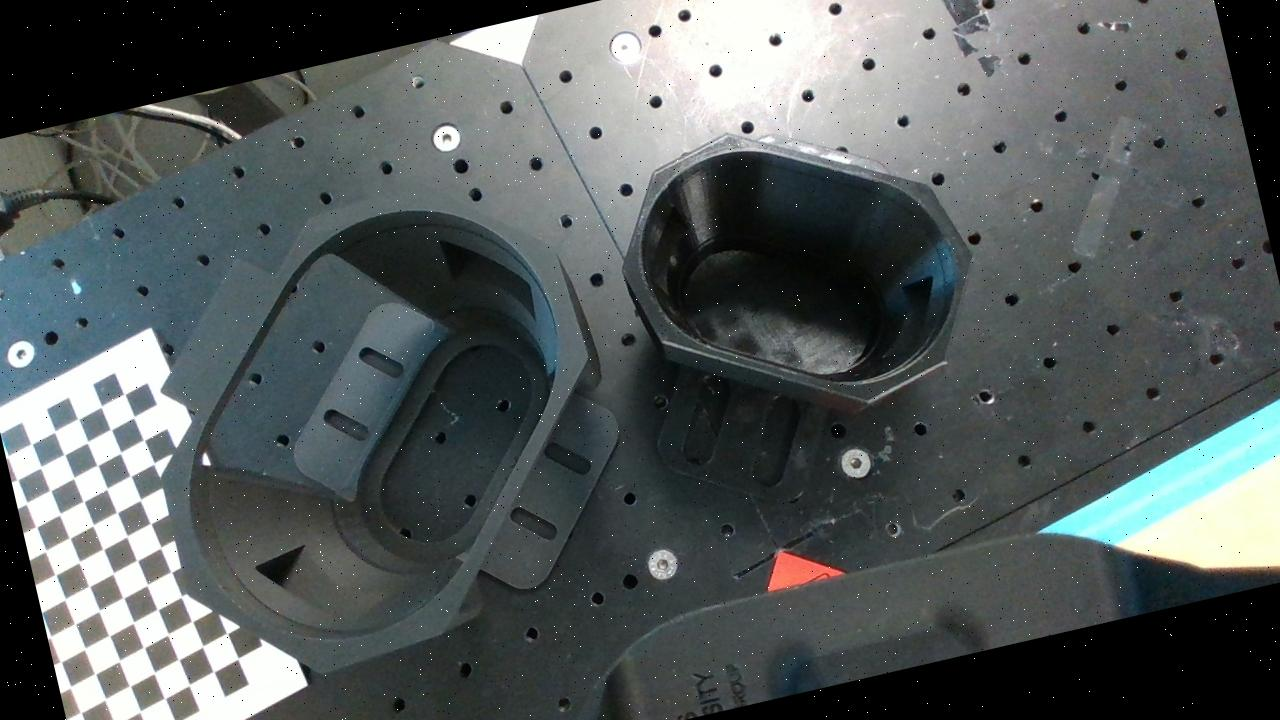big_interface: (108, 156, 647, 700)
small_interface: (596, 82, 1002, 450)
